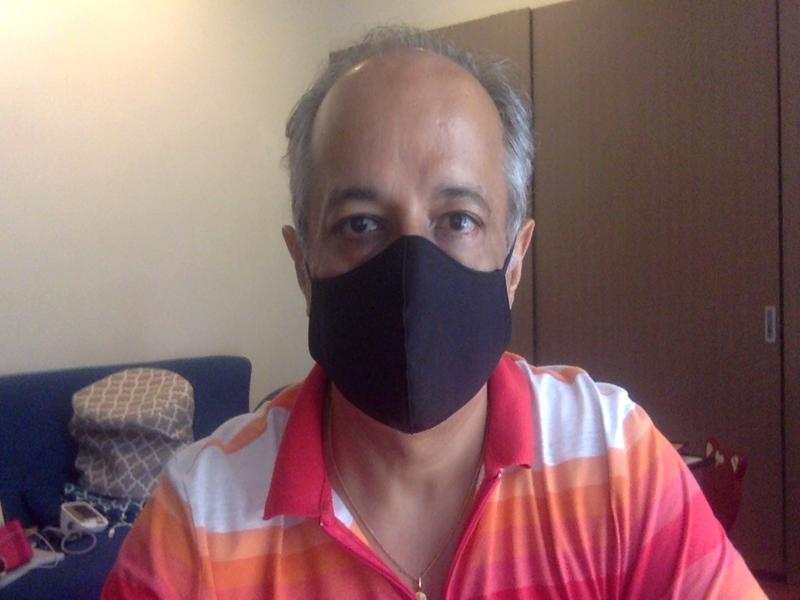mask: (259, 23, 574, 430)
